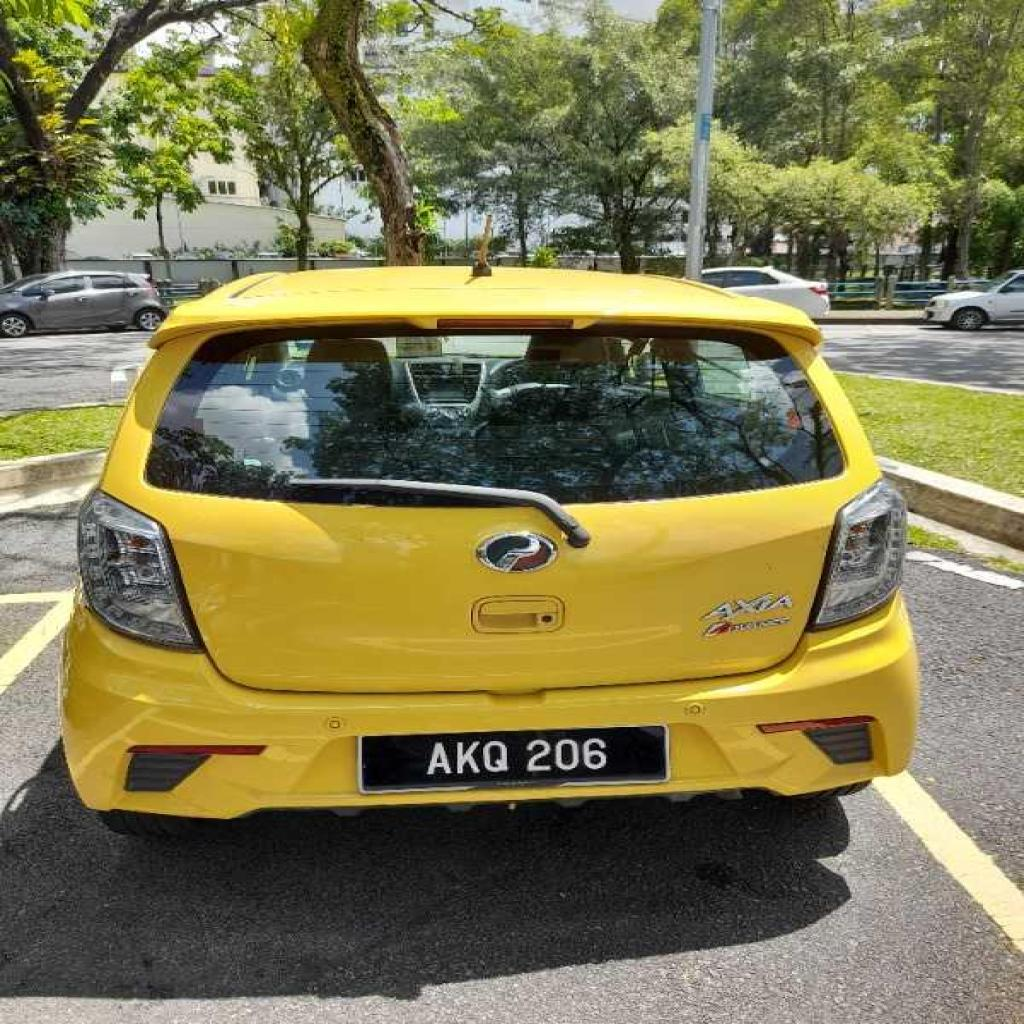car: (60, 266, 913, 833)
car plate: (357, 726, 664, 790)
